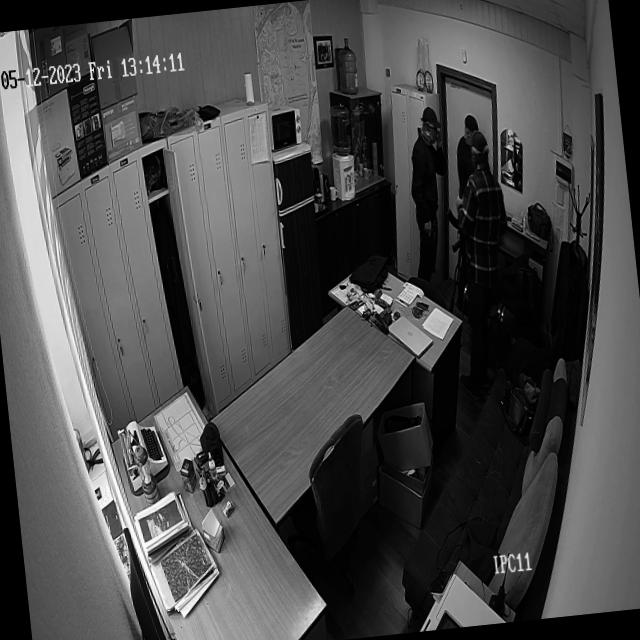gun: (440, 168, 476, 296), (422, 210, 444, 282)
person with a gun: (452, 132, 515, 374), (402, 107, 452, 290)
